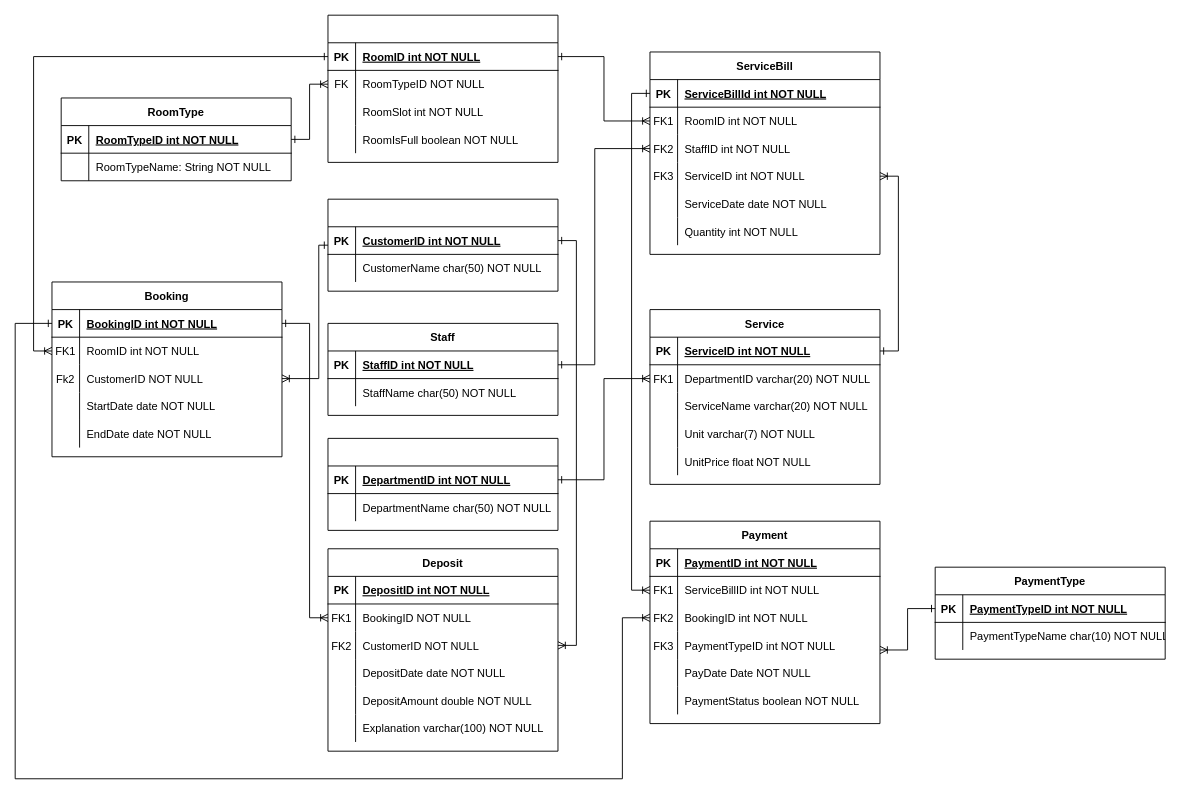
Some shapes in this 1183 by 794 pixel diagram are drawn without their labels. Each missing label, with the box of its shape:
Customers: (327, 198, 558, 291)
RoomInformation: (327, 14, 558, 162)
ServiceDepartment: (327, 437, 558, 530)
